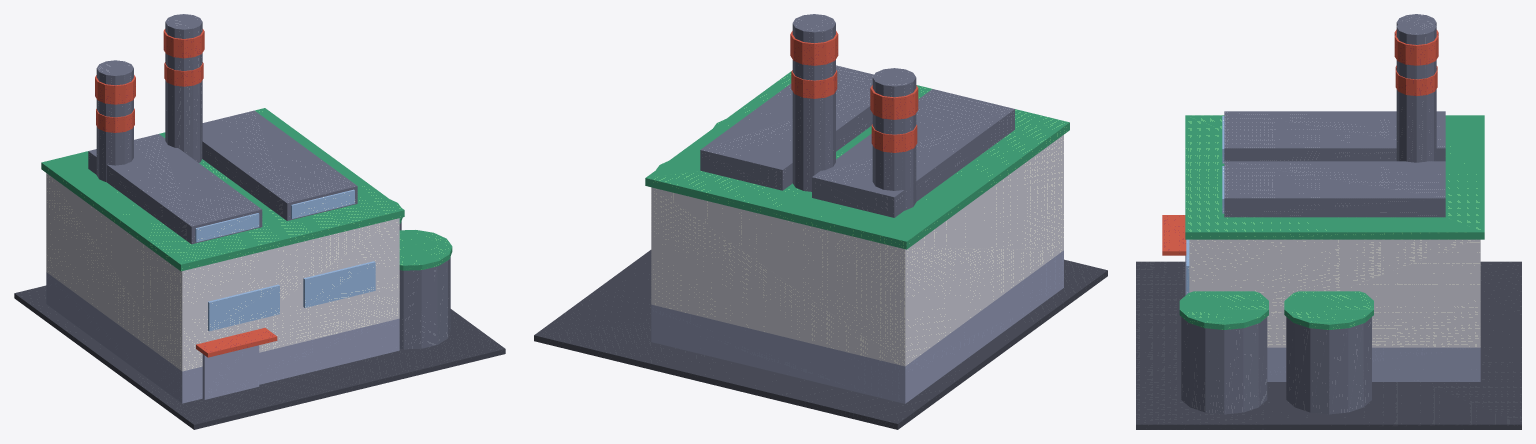
File: ind-2x2-l2.glb
3 renders of one model, left to right at view 1: azimuth 30°, elevation 25°; view 2: azimuth 150°, elevation 25°; view 3: azimuth 270°, elevation 25°, orthographic. The views are drawn at different scales.
Visible parts, largest first — view 1: ind-2x2-l2; view 2: ind-2x2-l2; view 3: ind-2x2-l2.
Part boxes in pixels (x1,y1,x2,y2): ind-2x2-l2: (14, 14, 505, 429); ind-2x2-l2: (534, 14, 1107, 429); ind-2x2-l2: (1136, 14, 1521, 429).
Size of the model in its own units: 3.86 by 3.35 by 3.86.
1 material, 1 textured.
